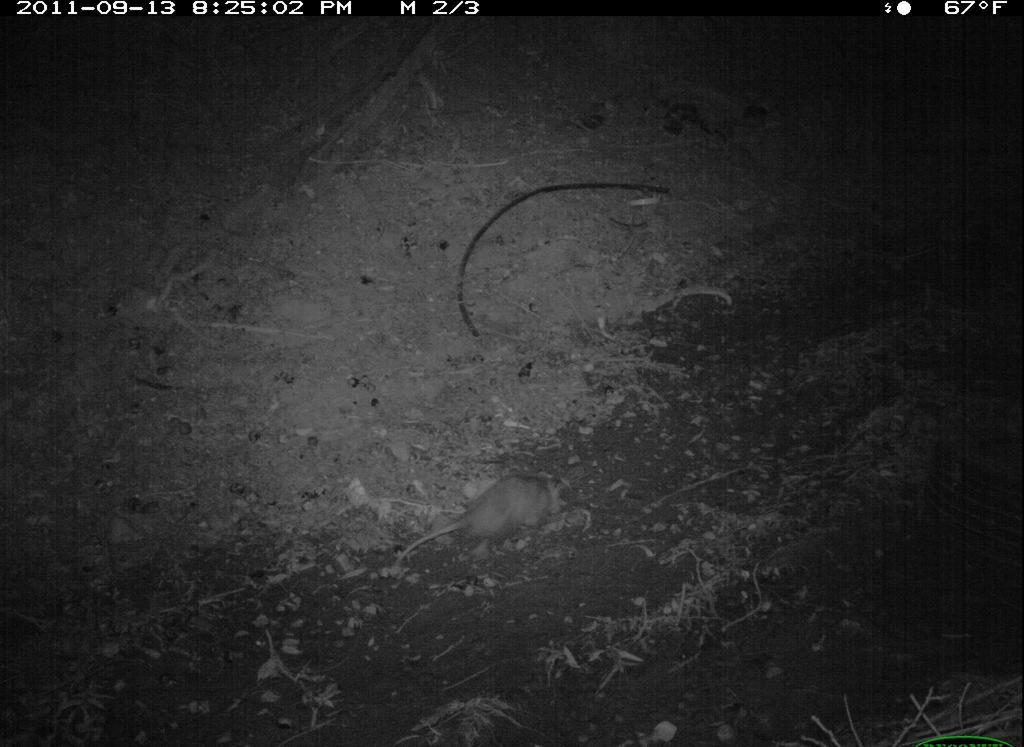opossum: (395, 472, 567, 569)
